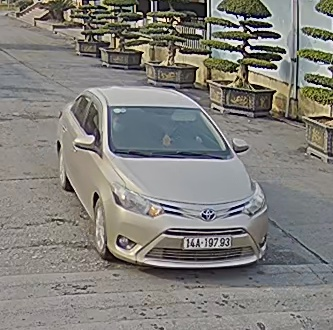vehicle plate: (181, 234, 236, 252)
